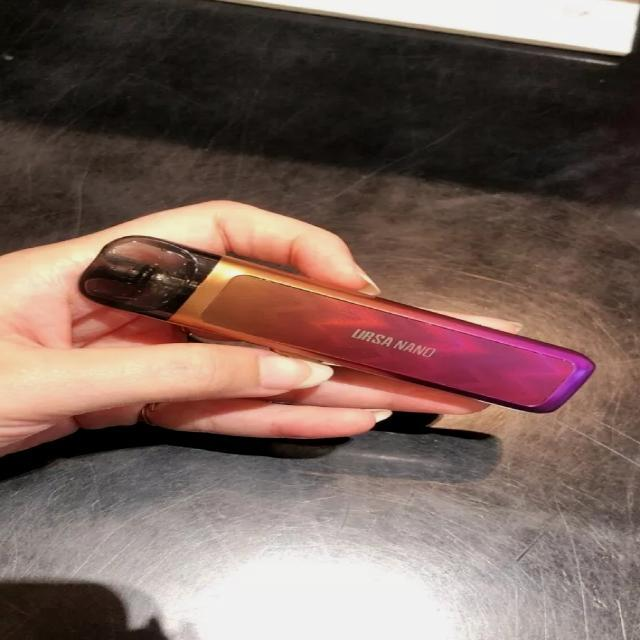Hazard: (79, 235, 597, 412)
